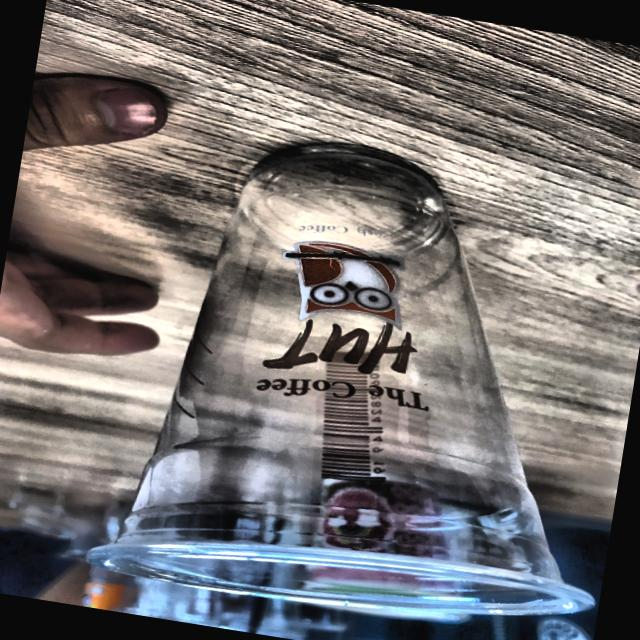plastic cup: (39, 105, 640, 640)
